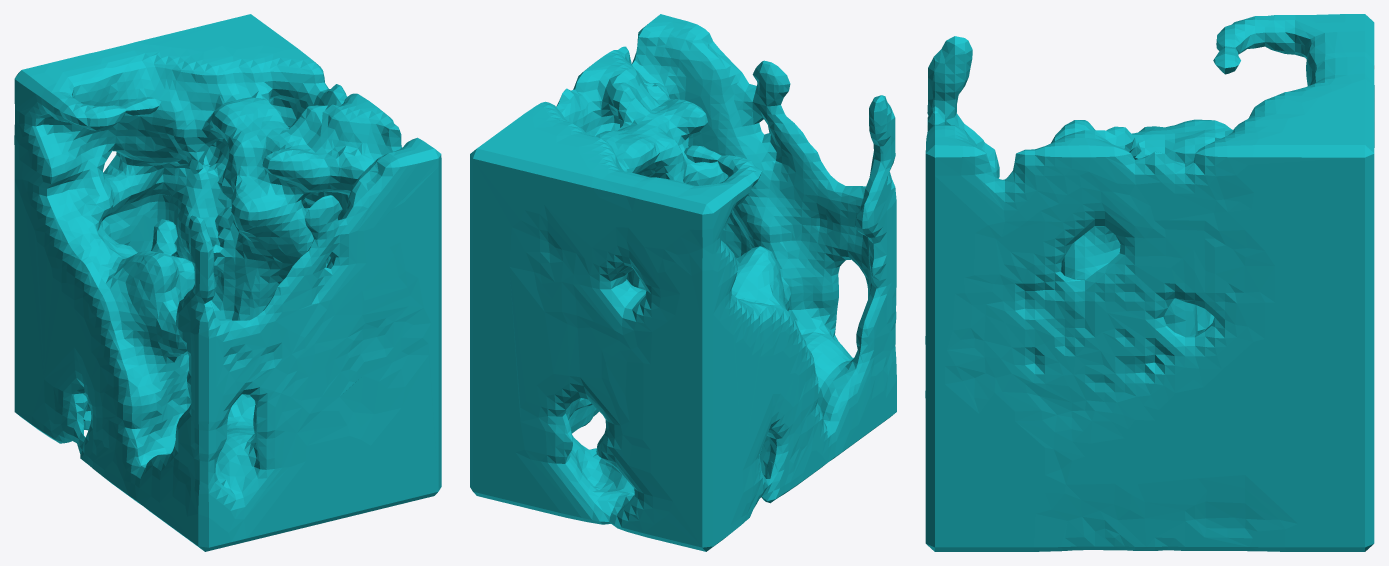
3 views of the same model, side by side, from view 1: azimuth 30°, elevation 25°; view 2: azimuth 150°, elevation 25°; view 3: azimuth 270°, elevation 25° (orthographic). The views are drawn at different scales.
Parts seen in each view (by area): view 1: Liquid_Domain; view 2: Liquid_Domain; view 3: Liquid_Domain.
Boxes of the visible parts, left/top/right/bottom form: Liquid_Domain: left=14, top=14, right=441, bottom=551; Liquid_Domain: left=470, top=14, right=896, bottom=551; Liquid_Domain: left=925, top=14, right=1374, bottom=551.
Size of the model in its own units: 79.15 by 108 by 108.
